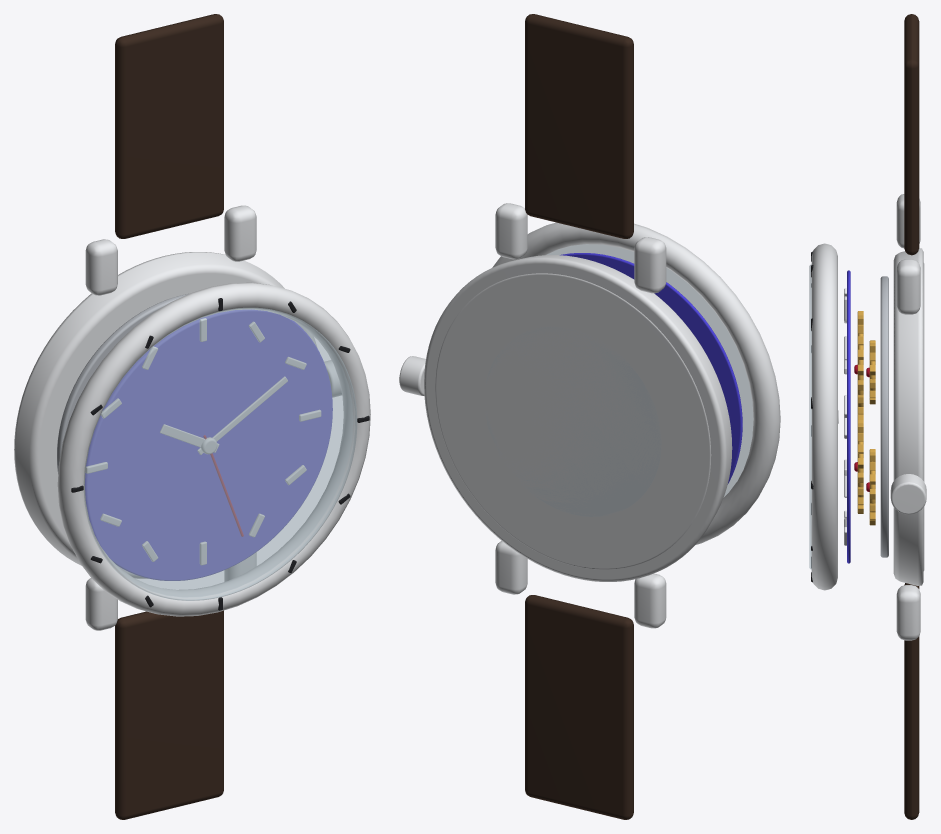
File: hero-watch.glb
3 renders of one model, left to right at view 1: azimuth 30°, elevation 25°; view 2: azimuth 150°, elevation 25°; view 3: azimuth 270°, elevation 25°, orthographic. The views are drawn at different scales.
Visible parts, largest first — view 1: 00 Crystal, 03 Dial, 01 Bezel, 10 Strap.001, 10 Strap, 08 Case, 06 Movement plate, 08 Lug.003, 08 Lug.001, 08 Lug; view 2: 09 Caseback, 10 Strap.001, 10 Strap, 08 Case, 01 Bezel, 09 Caseback window, 03 Dial, 00 Crystal, 08 Lug.001, 08 Lug.003, 08 Lug, 08 Lug.002 (+1 smaller); view 3: 01 Bezel, 08 Case, 10 Strap.001, 10 Strap, 06 Movement plate, 08 Lug.003, 08 Lug.002, 08 Crown, 03 Dial, 00 Crystal, 09 Caseback, 08 Lug.001.
Part boxes in pixels (x1=…): 00 Crystal: x1=84, y1=308, x2=357, y2=600; 03 Dial: x1=85, y1=309, x2=332, y2=580; 01 Bezel: x1=57, y1=282, x2=370, y2=616; 10 Strap.001: x1=115, y1=14, x2=223, y2=238; 10 Strap: x1=115, y1=610, x2=223, y2=819; 08 Case: x1=14, y1=252, x2=316, y2=578; 06 Movement plate: x1=57, y1=293, x2=188, y2=474; 08 Lug.003: x1=224, y1=205, x2=256, y2=261; 08 Lug.001: x1=85, y1=239, x2=117, y2=295; 08 Lug: x1=85, y1=578, x2=117, y2=630; 09 Caseback: x1=435, y1=273, x2=711, y2=569; 10 Strap.001: x1=525, y1=14, x2=633, y2=238; 10 Strap: x1=525, y1=595, x2=633, y2=819; 08 Case: x1=424, y1=255, x2=732, y2=581; 01 Bezel: x1=492, y1=222, x2=780, y2=544; 09 Caseback window: x1=487, y1=327, x2=661, y2=516; 03 Dial: x1=560, y1=253, x2=742, y2=484; 00 Crystal: x1=547, y1=244, x2=753, y2=496; 08 Lug.001: x1=634, y1=237, x2=666, y2=293; 08 Lug.003: x1=495, y1=203, x2=527, y2=259; 08 Lug: x1=634, y1=573, x2=666, y2=628; 08 Lug.002: x1=495, y1=541, x2=527, y2=594; 01 Bezel: x1=811, y1=243, x2=837, y2=590; 08 Case: x1=893, y1=248, x2=923, y2=585; 10 Strap.001: x1=904, y1=14, x2=919, y2=255; 10 Strap: x1=904, y1=583, x2=919, y2=819; 06 Movement plate: x1=880, y1=276, x2=888, y2=557; 08 Lug.003: x1=896, y1=259, x2=920, y2=314; 08 Lug.002: x1=896, y1=585, x2=920, y2=640; 08 Crown: x1=890, y1=474, x2=926, y2=514; 03 Dial: x1=847, y1=270, x2=850, y2=563; 00 Crystal: x1=809, y1=264, x2=811, y2=569; 09 Caseback: x1=923, y1=263, x2=924, y2=570; 08 Lug.001: x1=896, y1=194, x2=920, y2=248.
Size of the model in its own units: 0.615 by 1.4 by 0.196.
